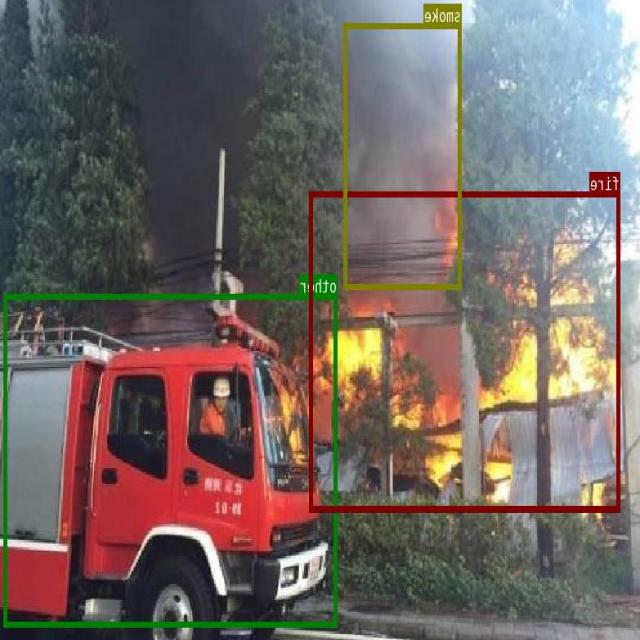fire: (310, 190, 621, 511)
other: (4, 294, 338, 626)
smoke: (344, 22, 462, 288)
